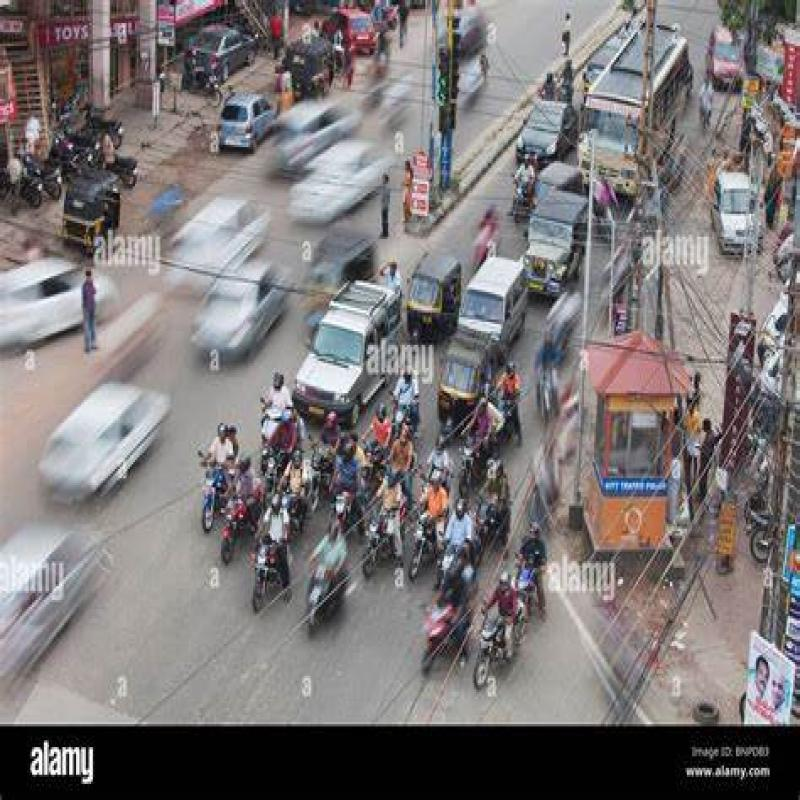auto: (438, 337, 493, 425), (406, 251, 453, 333)
car: (298, 281, 392, 413), (478, 260, 534, 337)
